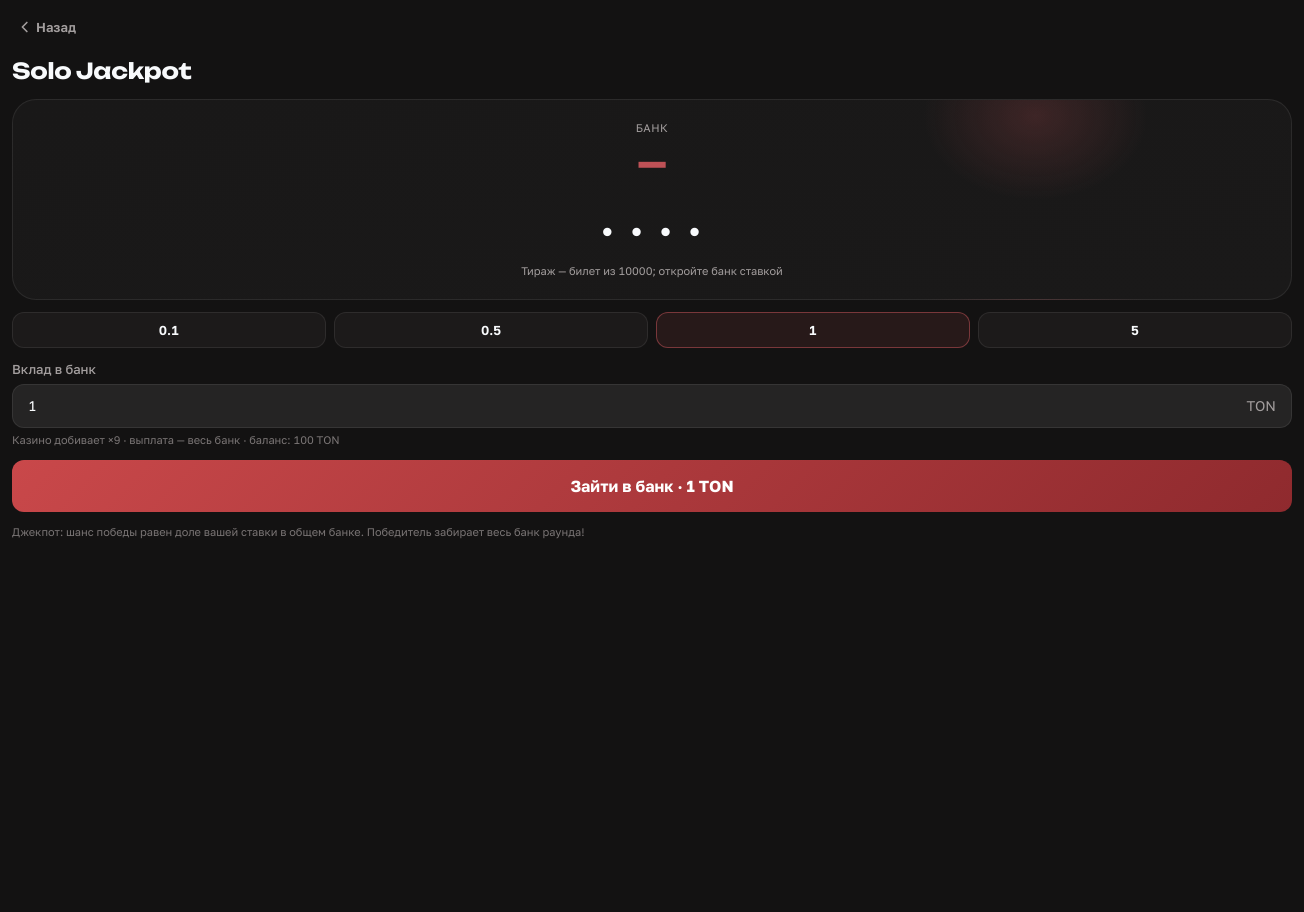
Test: JackpotScreen (5.2: банк, доля, тираж) › тираж — выигрыш: билет, выплата всего банка, история матча
Click the button "Зайти в банк · 1 TON" at (652, 486), box [12,460,1292,512]
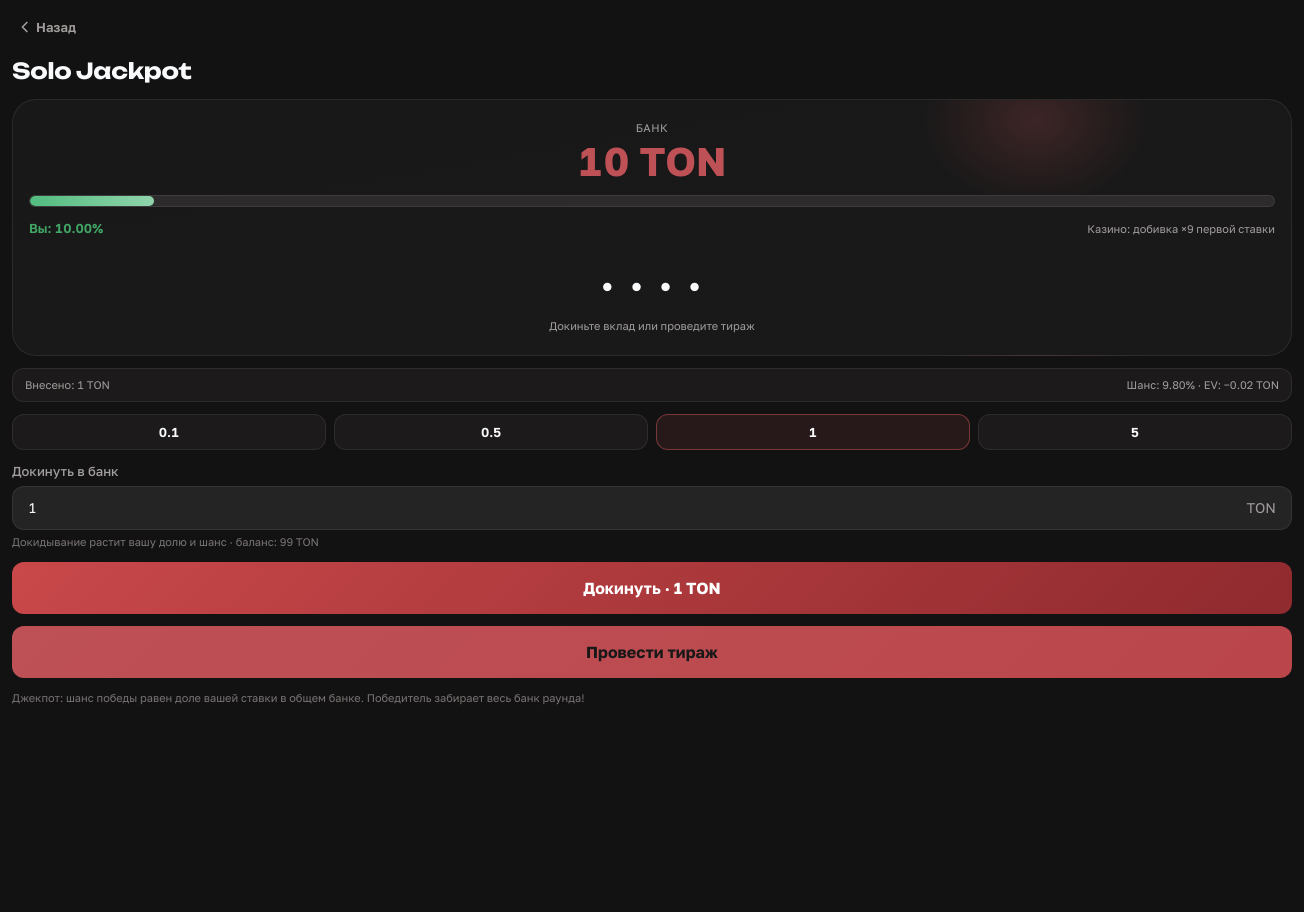
Click the button "Провести тираж" at (652, 652), box [12,626,1292,678]
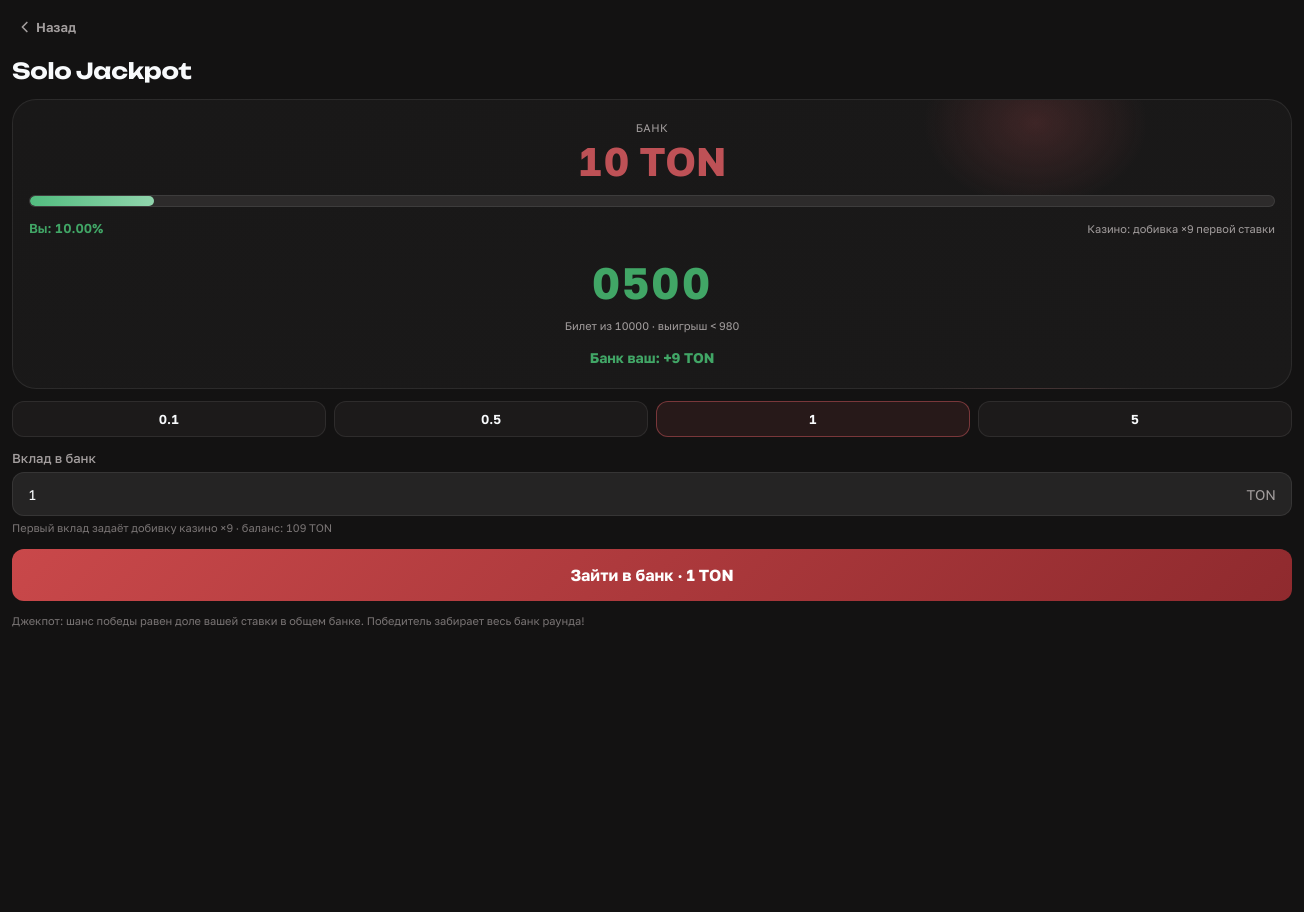
Result: the text "0500" is shown at [592,250,712,316]
Result: the text with test id "jackpot-result" reads "Банк ваш: +9 TON" at [590,348,714,366]
